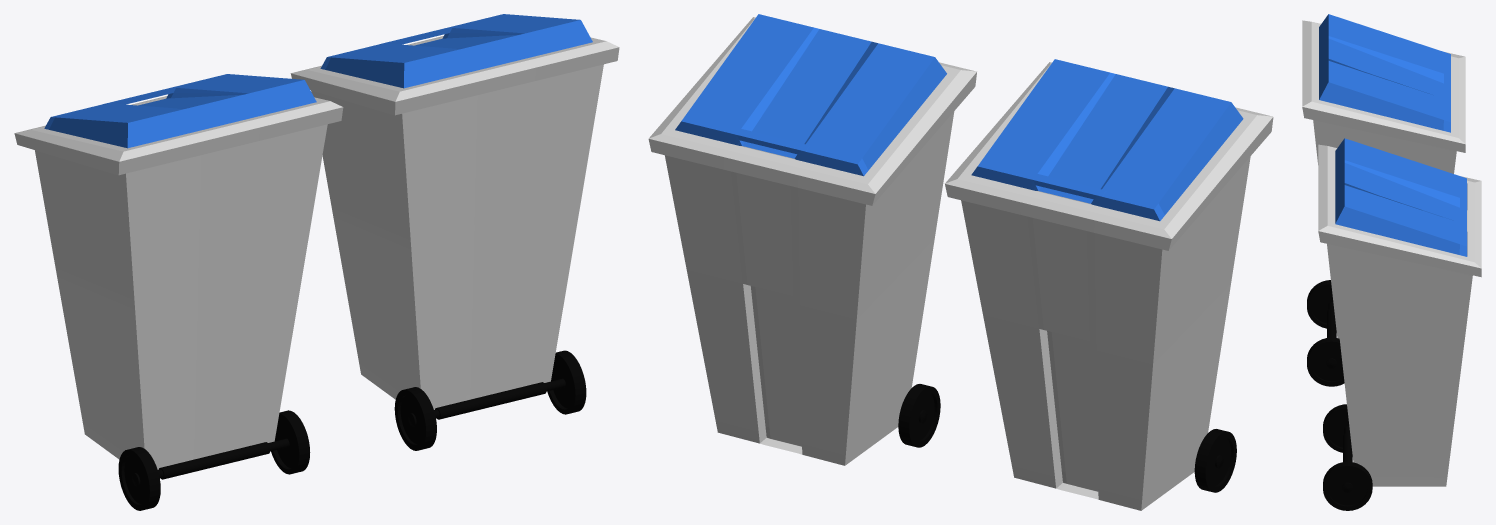
Rendered from Bin_square.fbx.
3 views of the same model, side by side, from view 1: azimuth 30°, elevation 25°; view 2: azimuth 150°, elevation 25°; view 3: azimuth 270°, elevation 25° (orthographic). The views are drawn at different scales.
Parts seen in each view (by area): view 1: Cube, Cube.003, Cube.002, Cube.005, Cylinder.001, Cylinder.003, Cylinder, Cylinder.002; view 2: Cube, Cube.003, Cube.002, Cube.005, Cylinder.003, Cylinder.001; view 3: Cube.003, Cube.005, Cube.002, Cube, Cylinder.003, Cylinder.001, Cylinder, Cylinder.002.
Part boxes in pixels (x1,y1,x2,y2): Cube: (14,96,343,469); Cube.003: (290,36,619,409); Cube.002: (44,74,316,148); Cube.005: (320,14,592,88); Cylinder.001: (118,410,310,510); Cylinder.003: (394,350,586,450); Cylinder: (158,442,270,479); Cylinder.002: (435,382,546,419); Cube: (945,62,1273,510); Cube.003: (648,17,976,465); Cube.002: (971,59,1243,221); Cube.005: (675,14,946,176); Cylinder.003: (898,384,940,447); Cylinder.001: (1194,429,1236,492); Cube.003: (1318,144,1481,486); Cube.005: (1335,138,1467,256); Cube.002: (1319,14,1450,132); Cube: (1302,20,1465,338); Cylinder.003: (1323,404,1372,510); Cylinder.001: (1307,280,1344,386); Cylinder: (1327,308,1336,337); Cylinder.002: (1343,433,1352,461).
Bounding box in the file's own units: 970 × 734 × 372.
